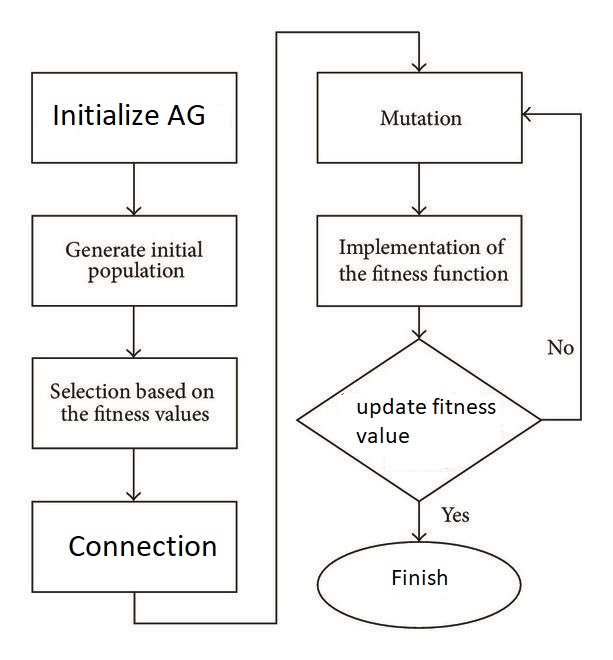arrow: (131, 29, 428, 627), (519, 107, 585, 423), (124, 444, 143, 504), (123, 304, 142, 361), (410, 161, 430, 215), (124, 161, 143, 215), (409, 498, 427, 544), (411, 306, 431, 343)
process: (312, 69, 525, 167), (314, 212, 527, 310), (29, 355, 241, 453), (28, 499, 242, 595), (28, 213, 242, 309), (29, 70, 240, 166)
text: (332, 237, 511, 284), (47, 380, 216, 424), (353, 395, 498, 445), (62, 239, 206, 283), (49, 98, 207, 128), (64, 532, 218, 560), (375, 105, 466, 127), (390, 568, 452, 588), (440, 502, 471, 526), (543, 335, 575, 358)
